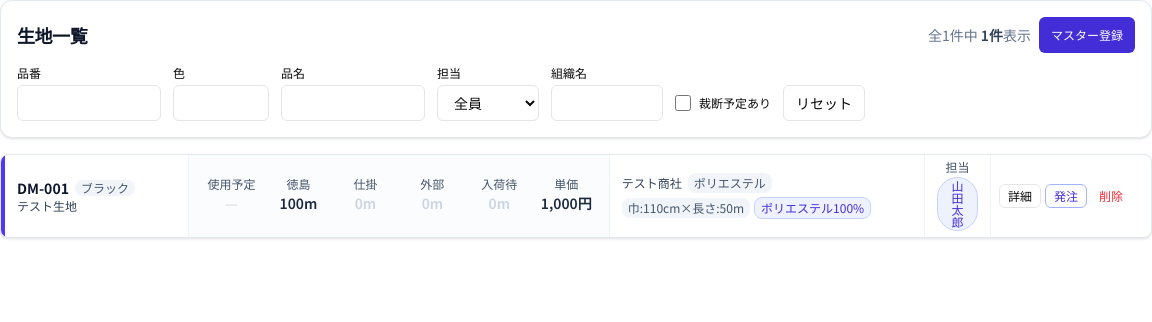
Test: ProductListTable 品番検索 › マッチしない品番を入力すると空状態が表示される
This screenshot has width=1152, height=322.
Type "XX" into the field labelled "品番" at (89, 103), box [17, 85, 161, 121]
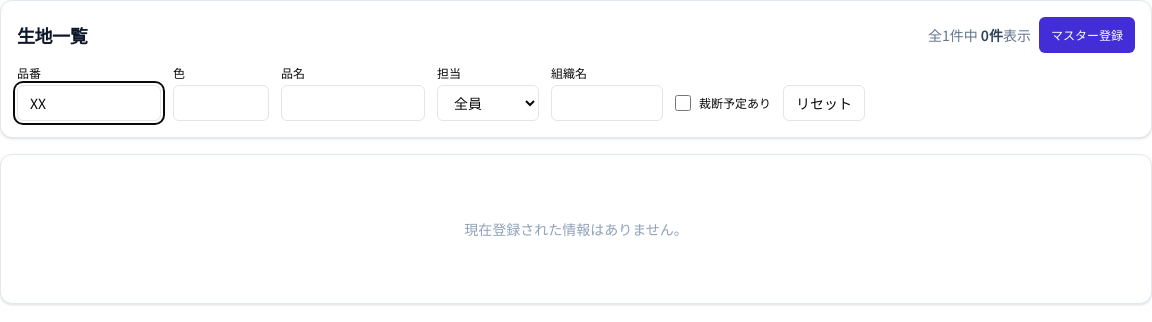
Check: the text "現在登録された情報はありません。" is shown, box [0, 154, 1151, 304]
